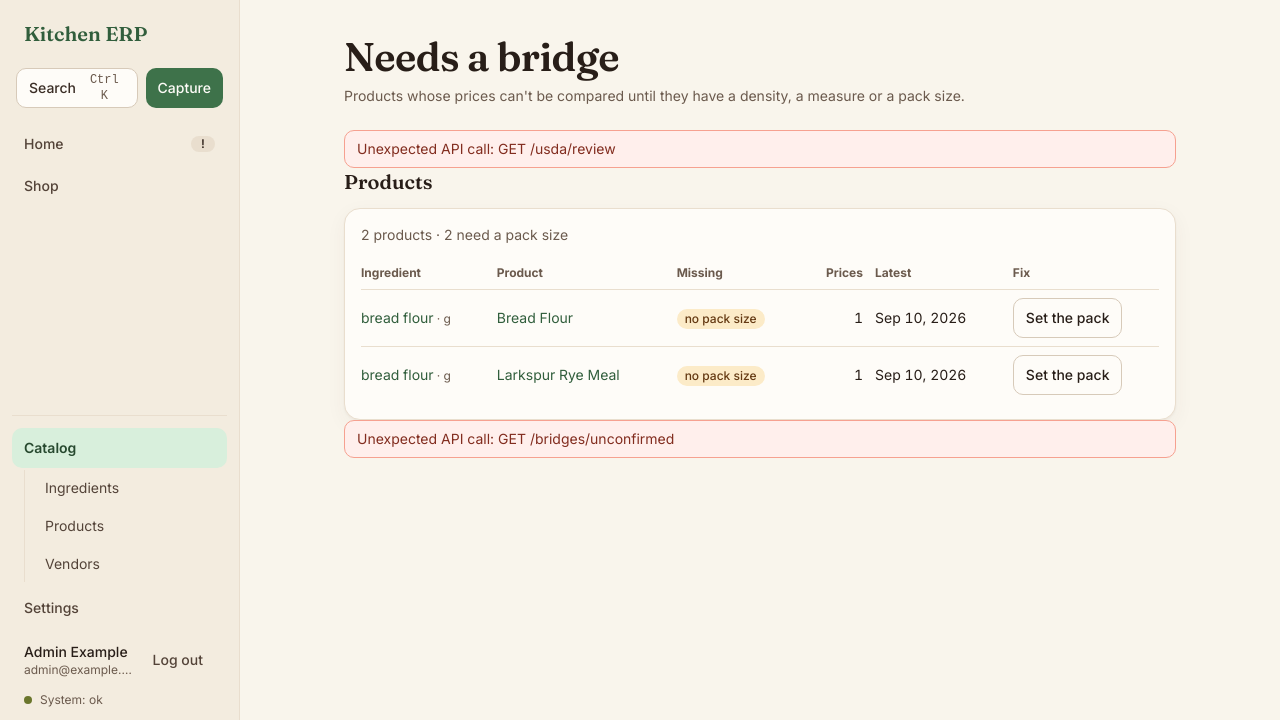
it: needs a bridge › sets a pack in place, then opens the next product waiting on one
The width and height of the screenshot is (1280, 720).
Click the 1st button "Set the pack" at (1068, 318), box [1013,298,1122,338]
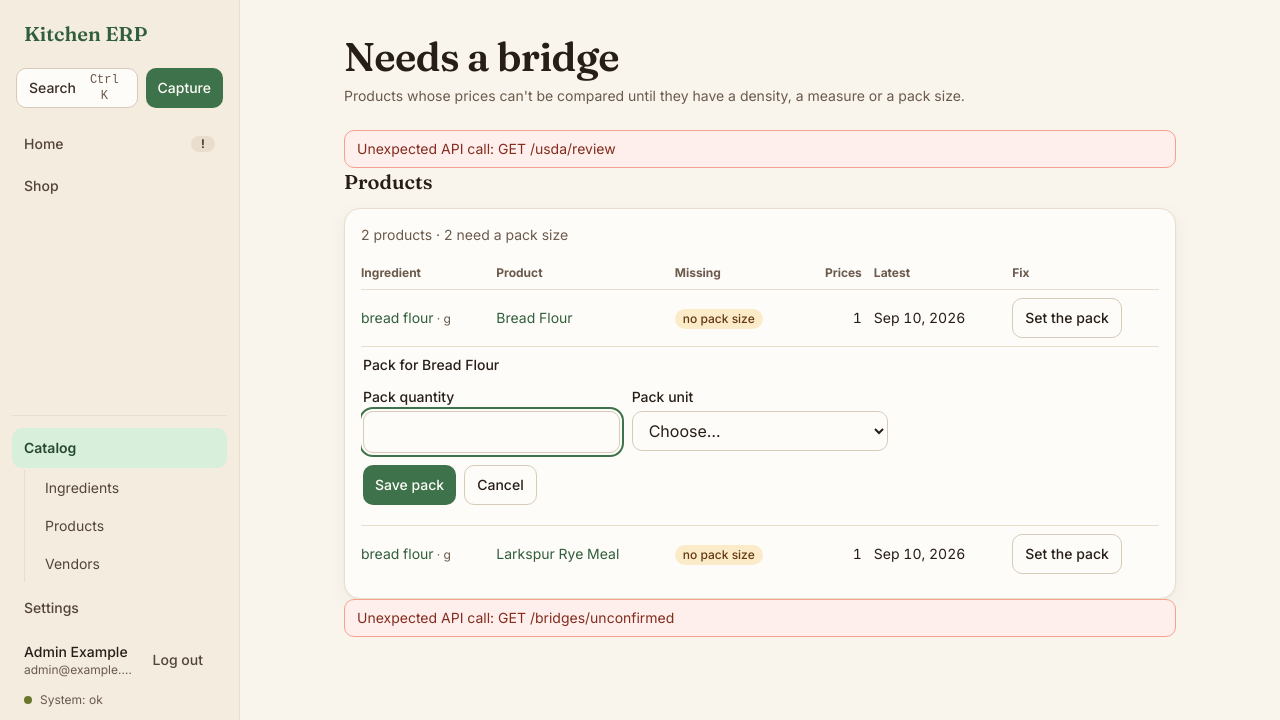
Type "500" into the field labelled "Pack quantity" at (491, 432), box [363,411,620,453]
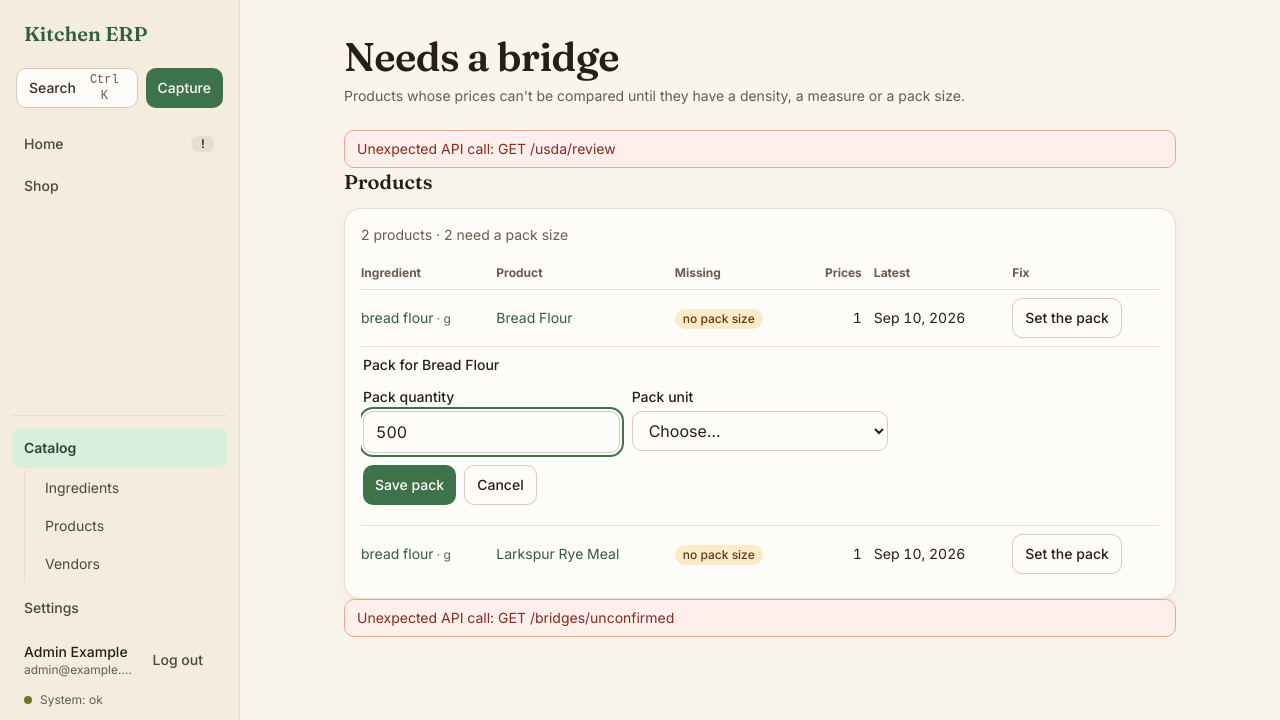
Select "g" in the dropdown labelled "Pack unit" at (760, 431), box [632,411,888,451]
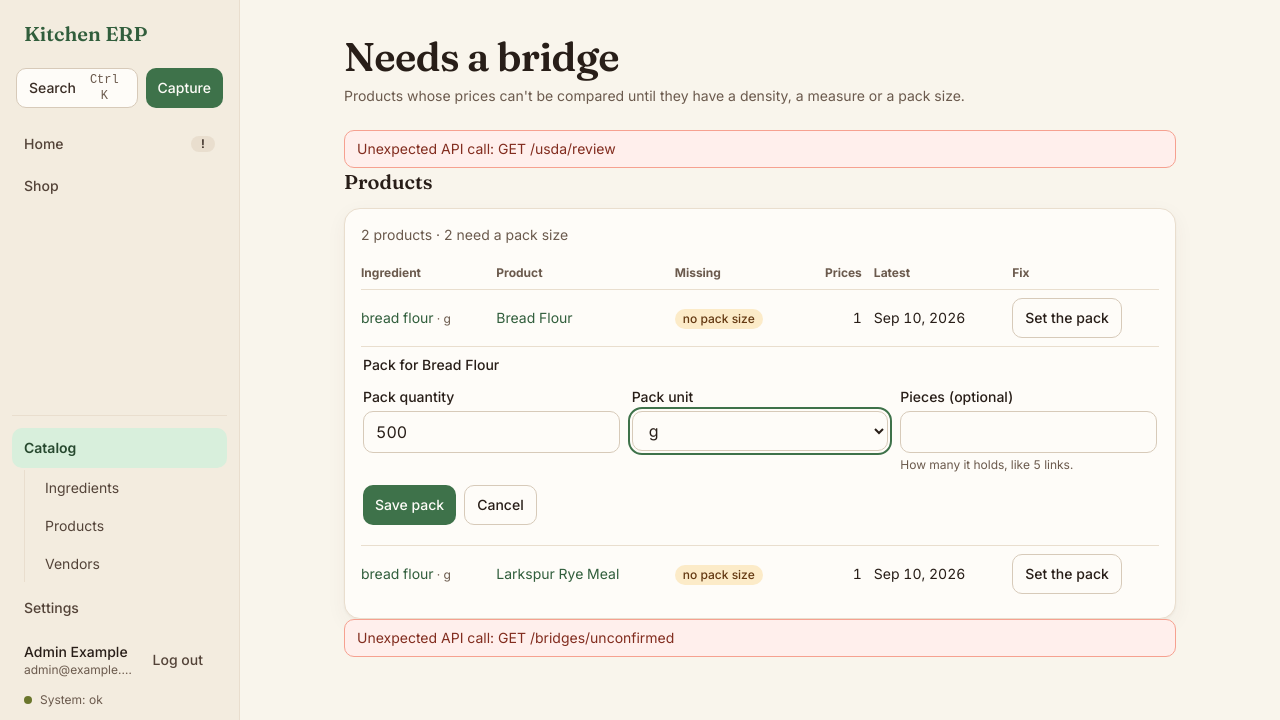
Type "4" into the field labelled "Pieces (optional)" at (1029, 432), box [900,411,1157,453]
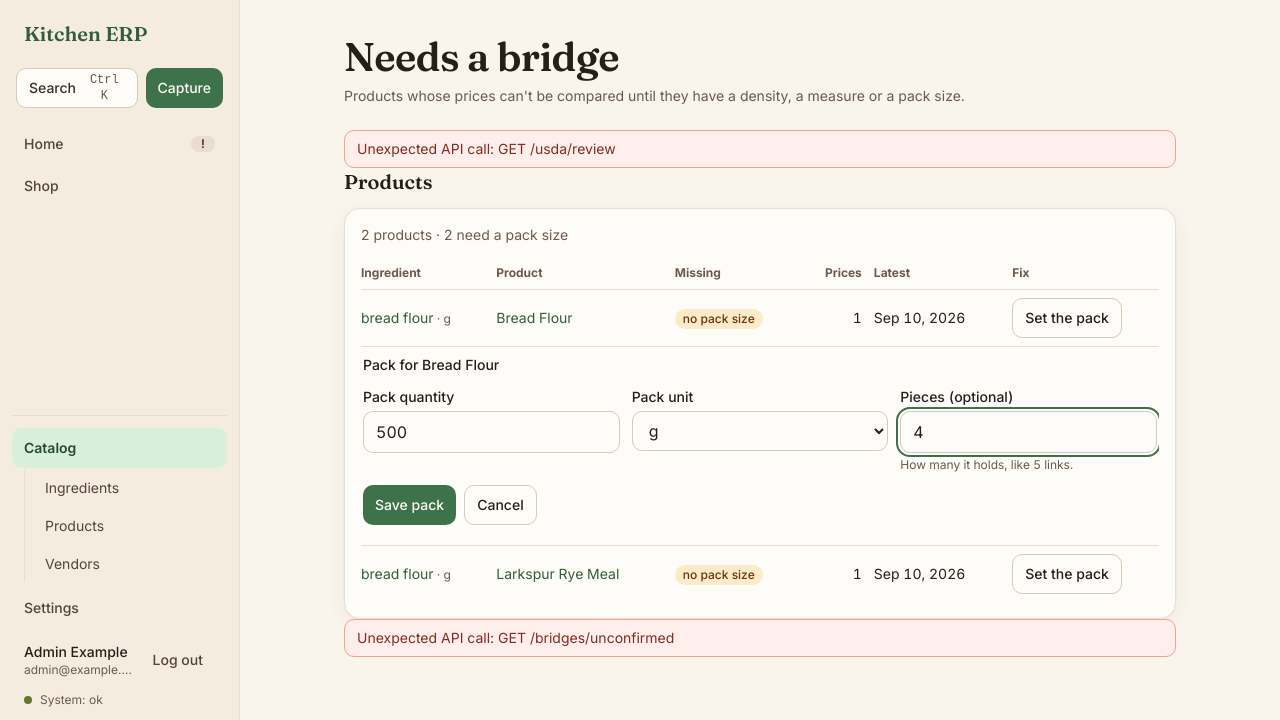
Click the button "Save pack" at (410, 505), box [363,485,456,525]
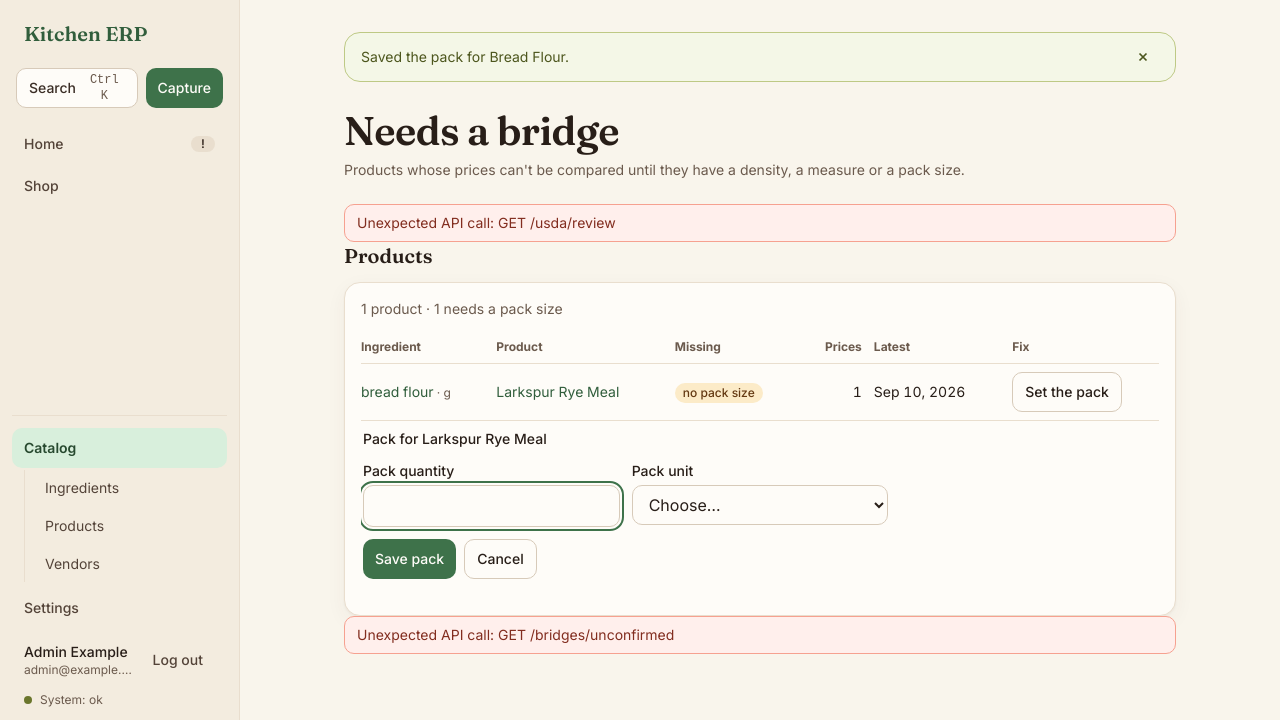
Expected: the text "Saved the pack for Bread Flour." is shown, [361,47,569,67]
Expected: the number of rows with test id "needs-bridge" is 1, [361,364,1159,420]
Expected: the text "1 product · 1 needs a pack size" is shown, [361,300,563,317]
